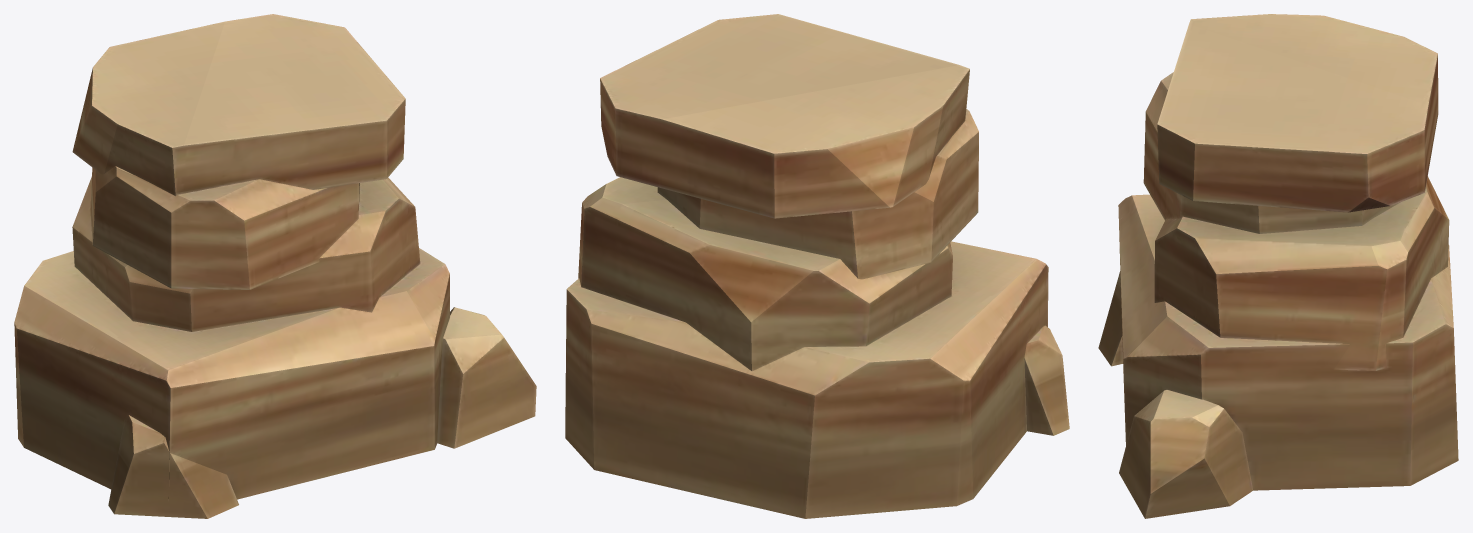
File: rock_sandstone_a.glb
The picture shows the model from 3 angles, left to right: view 1: azimuth 30°, elevation 25°; view 2: azimuth 150°, elevation 25°; view 3: azimuth 270°, elevation 25°; orthographic projection. The views are drawn at different scales.
Visible parts, largest first — view 1: Static_Mesh; view 2: Static_Mesh; view 3: Static_Mesh.
Part boxes in pixels (box(x1,y1,x2,y2)): Static_Mesh: box(14, 14, 536, 518); Static_Mesh: box(565, 14, 1069, 518); Static_Mesh: box(1098, 14, 1458, 518).
Size of the model in its own units: 2.67 by 2.02 by 1.98.
1 material, 1 textured.
